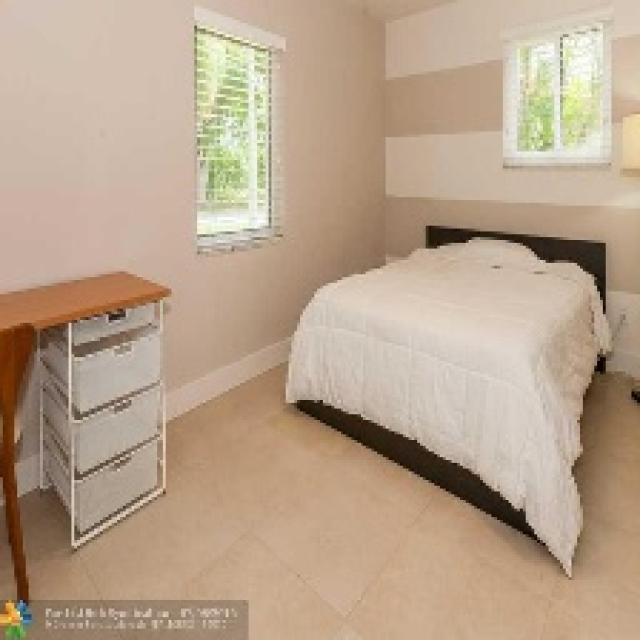Bed: (283, 223, 611, 577)
